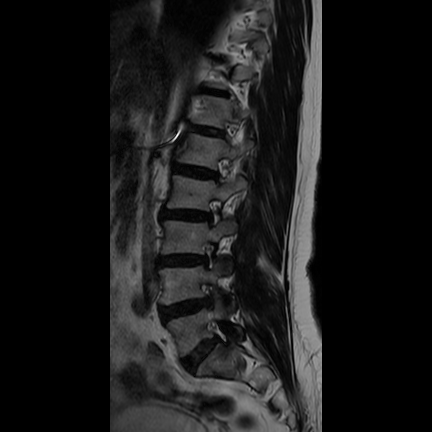RFS0: (194, 191, 229, 234), (204, 149, 237, 192), (200, 315, 237, 351)
RFS2: (191, 234, 226, 276)
RFS3: (190, 278, 224, 317)
